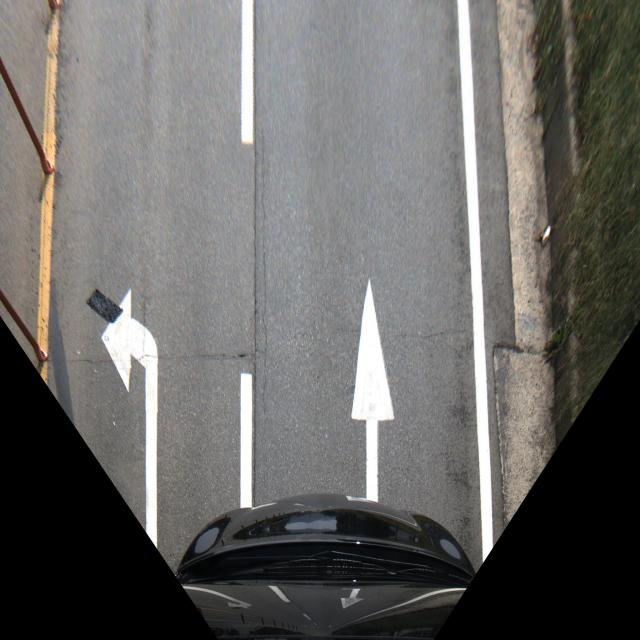forward: (236, 234, 495, 499)
left: (34, 249, 260, 508)
